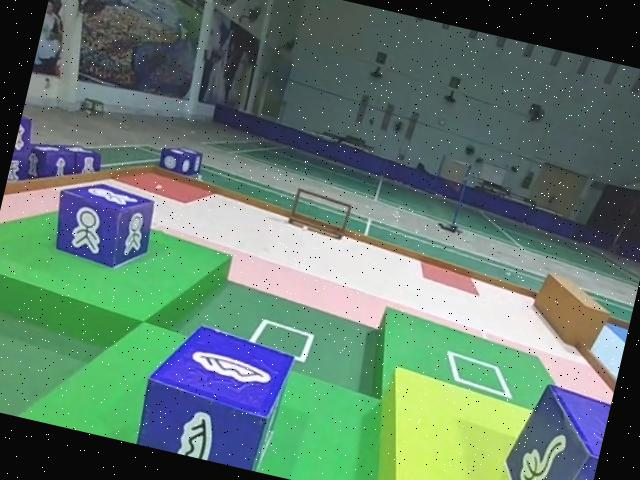R2 Real Blue: (129, 313, 296, 474), (486, 379, 611, 480), (41, 175, 158, 278), (20, 134, 104, 196), (3, 115, 38, 196)
